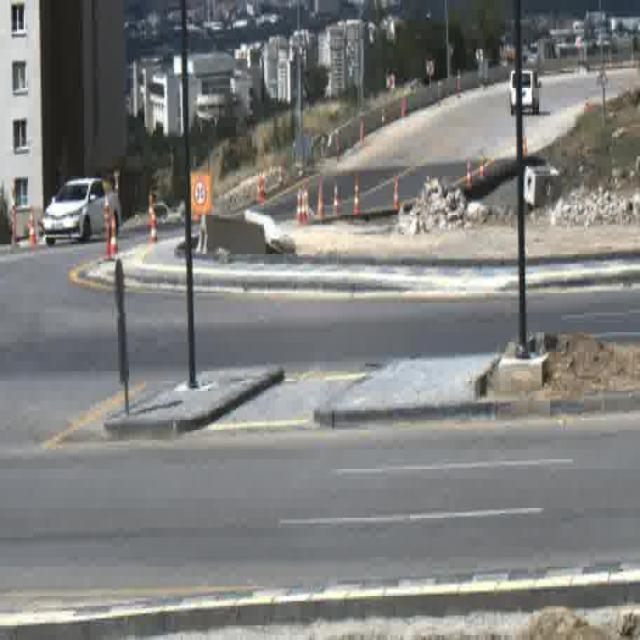Car: (44, 176, 120, 243), (509, 68, 539, 118)
